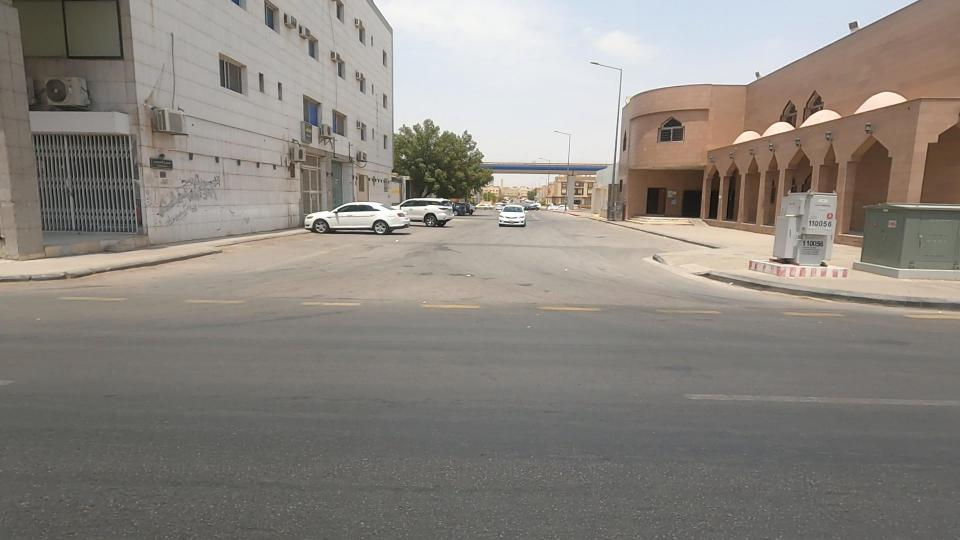GRAFFITI: (131, 137, 264, 242)
